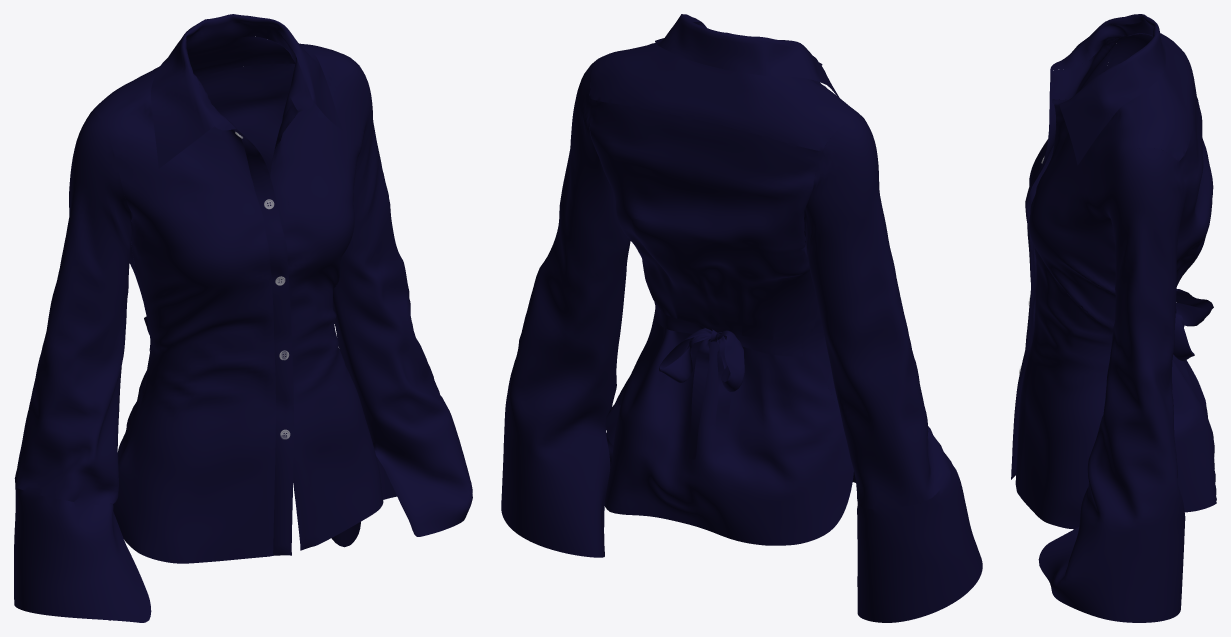
Rendered from blue_shirt.glb.
3 views of the same model, side by side, from view 1: azimuth 30°, elevation 25°; view 2: azimuth 150°, elevation 25°; view 3: azimuth 270°, elevation 25° (orthographic). The views are drawn at different scales.
Visible parts, largest first — view 1: button.002; view 2: button.002; view 3: button.002.
Boxes of the visible parts, x1,y1,x2,y2 form: button.002: [14, 14, 472, 622]; button.002: [501, 14, 982, 622]; button.002: [1011, 14, 1216, 622].
Bounding box in the file's own units: 1.39 × 1.65 × 0.5924.
